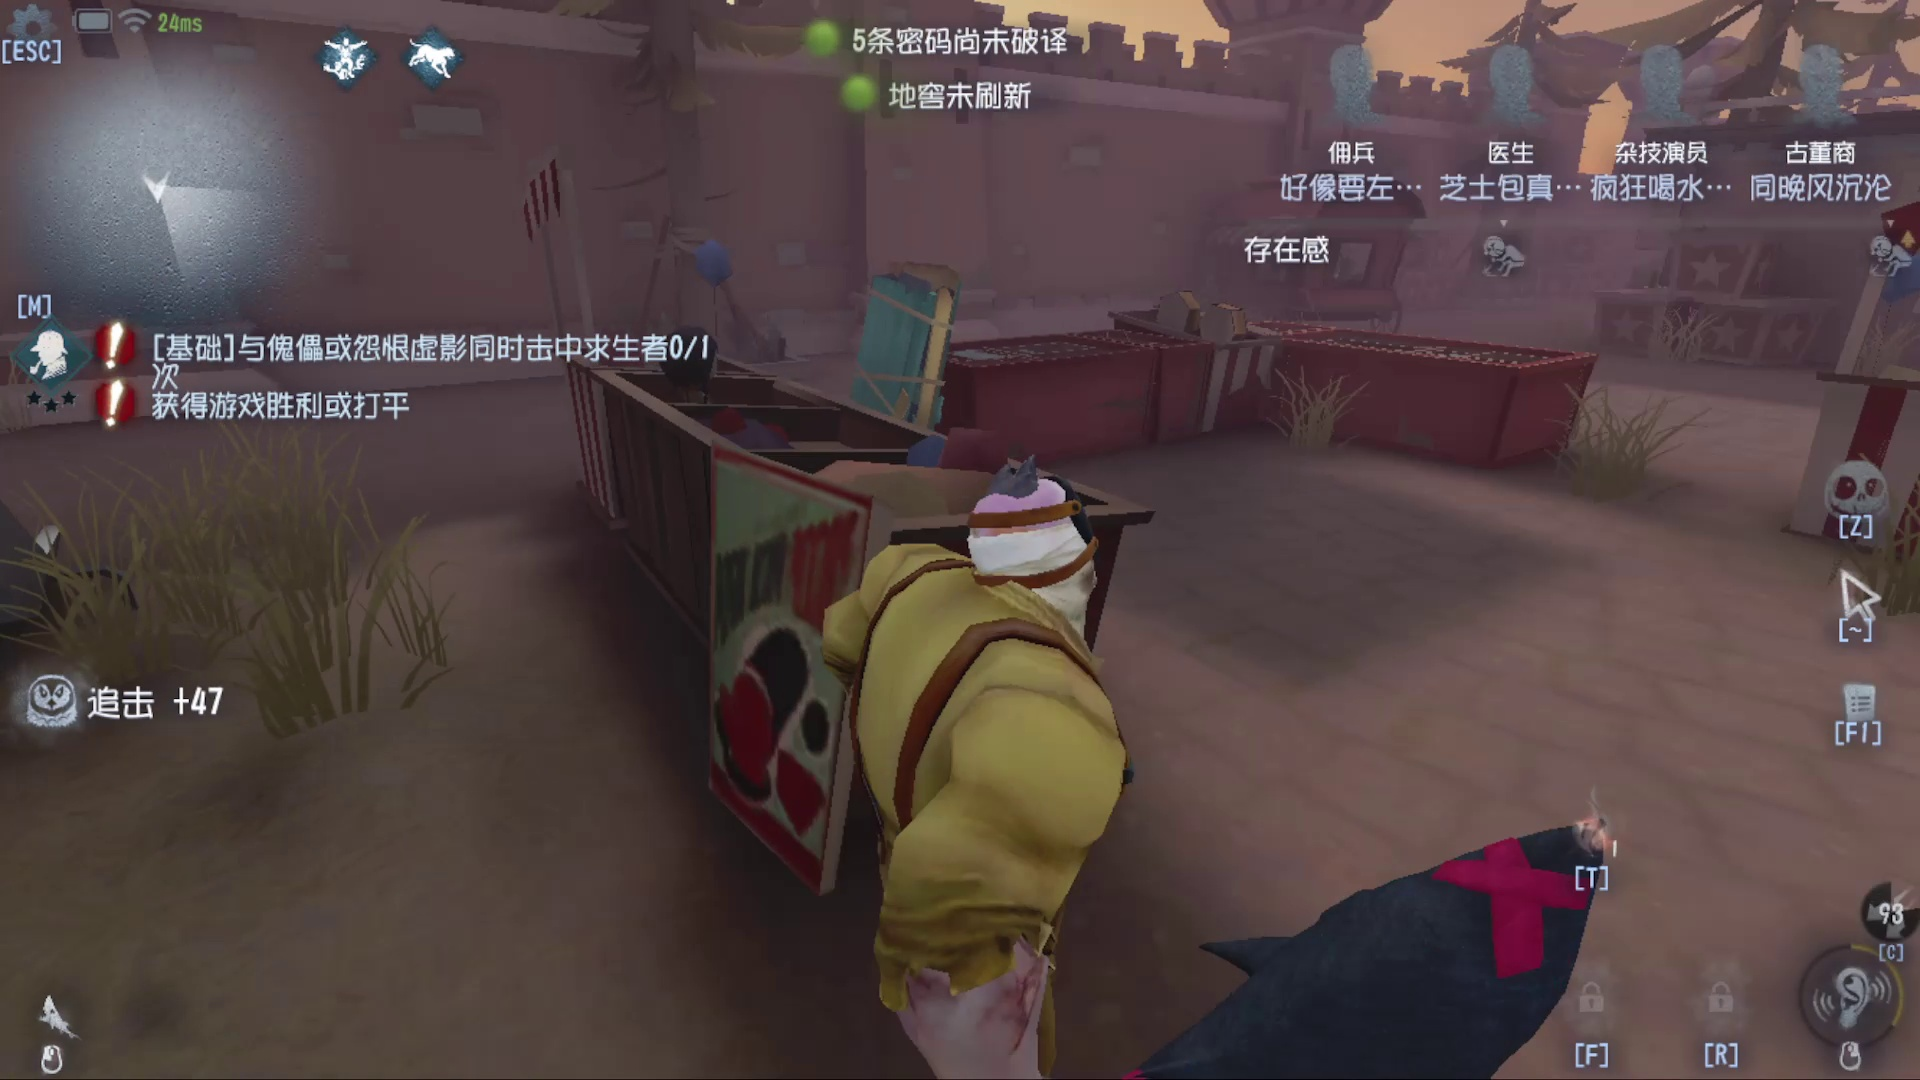木板: (822, 243, 965, 450)
